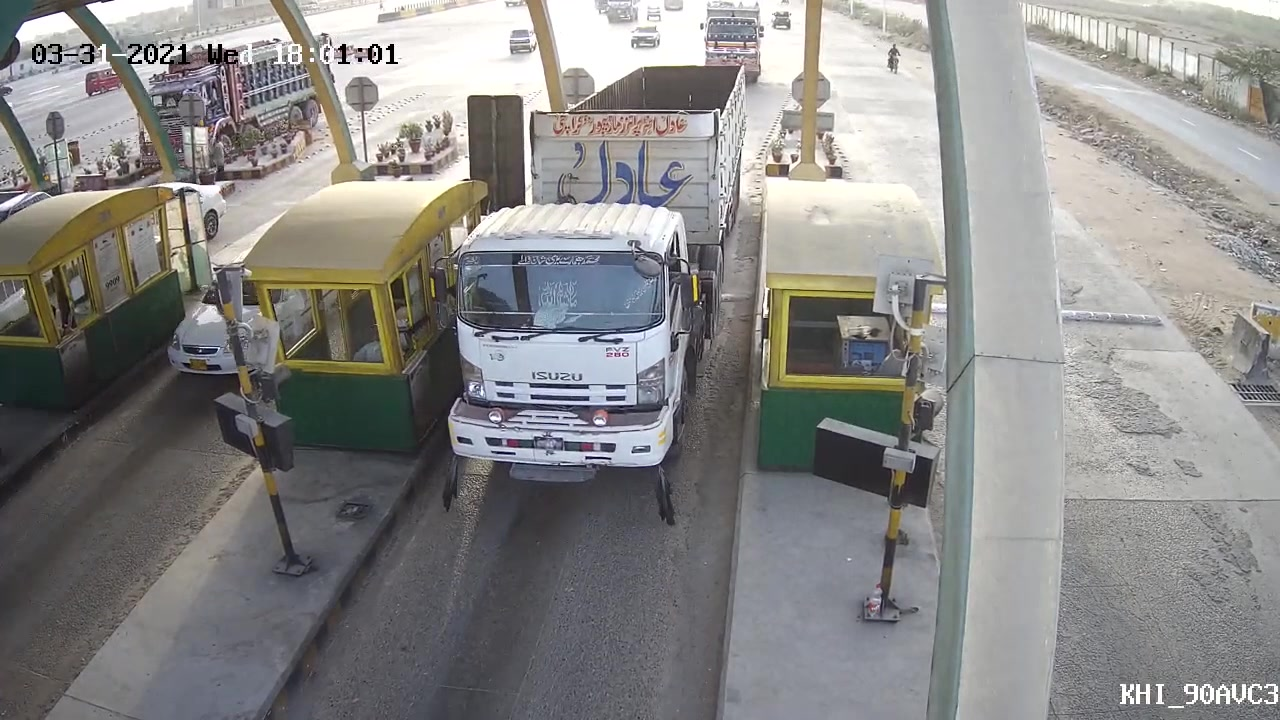F6: (444, 53, 754, 496)
